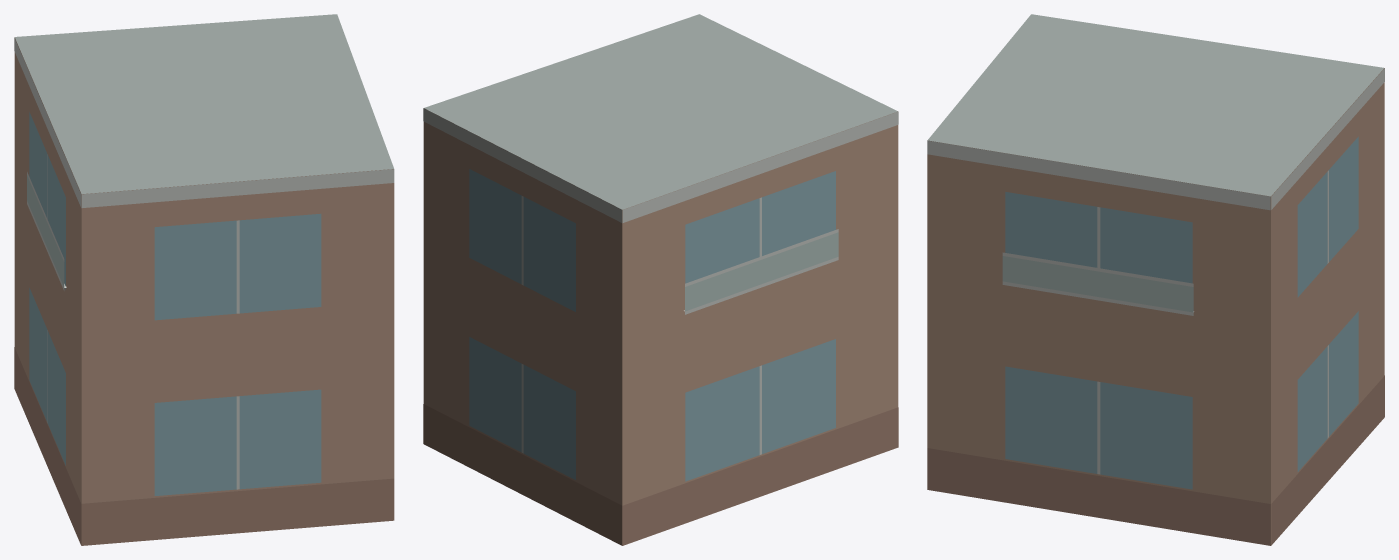
The model's file is survey-upis-32556886.glb.
3 renders of one model, left to right at view 1: azimuth 30°, elevation 25°; view 2: azimuth 150°, elevation 25°; view 3: azimuth 270°, elevation 25°, orthographic. The views are drawn at different scales.
Visible parts, largest first — view 1: survey-upis-32556886.tmp; view 2: survey-upis-32556886.tmp; view 3: survey-upis-32556886.tmp.
Boxes of the visible parts, bbox=[...] form: survey-upis-32556886.tmp: bbox=[14, 14, 394, 545]; survey-upis-32556886.tmp: bbox=[423, 14, 898, 545]; survey-upis-32556886.tmp: bbox=[927, 14, 1384, 545].
Bounding box in the file's own units: 6.84 × 6.1 × 7.25.
